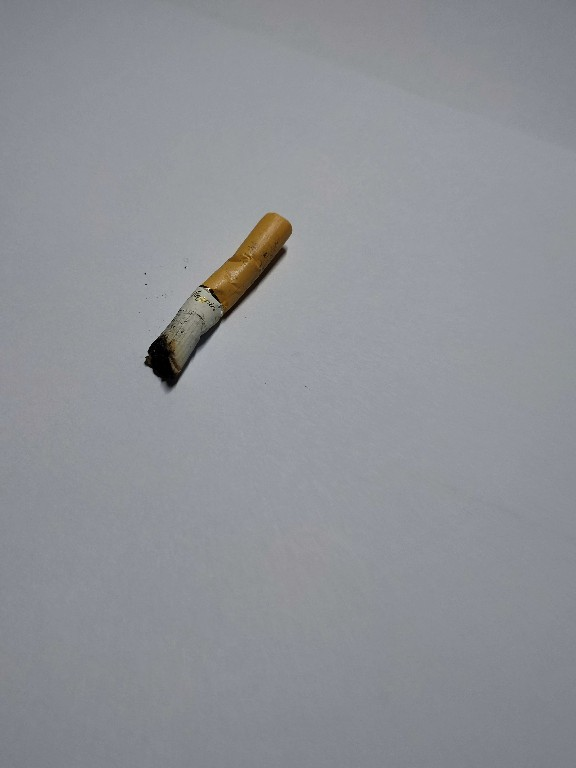cigarette: (143, 209, 294, 390)
